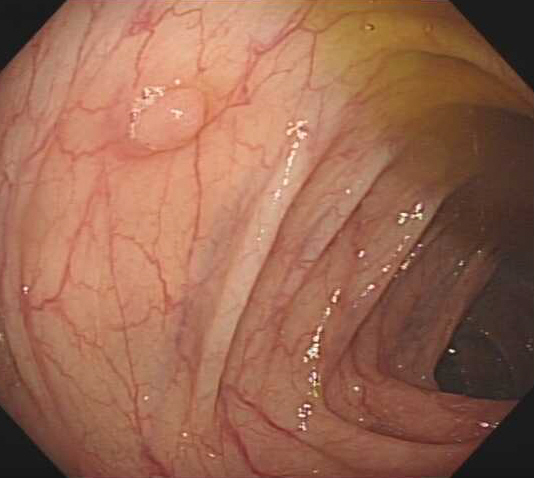adenoma: (120, 81, 209, 152)
